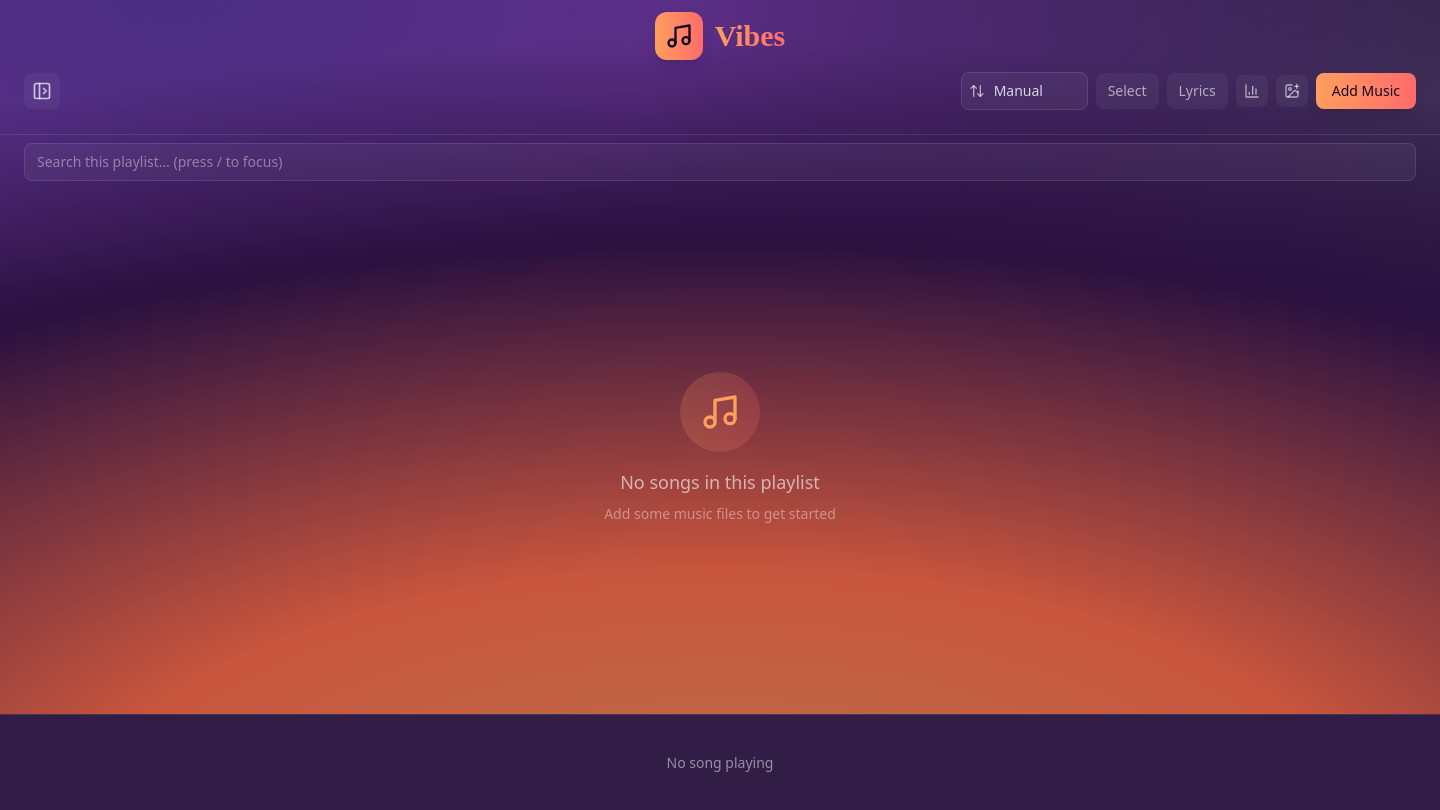
Test case: App › Escape closes the sidebar only below lg
This screenshot has width=1440, height=810.
// Mobile init: sidebar starts closed — open it first.
Click the button named "Open sidebar". click: (42, 91)
box: [24,73,60,109]
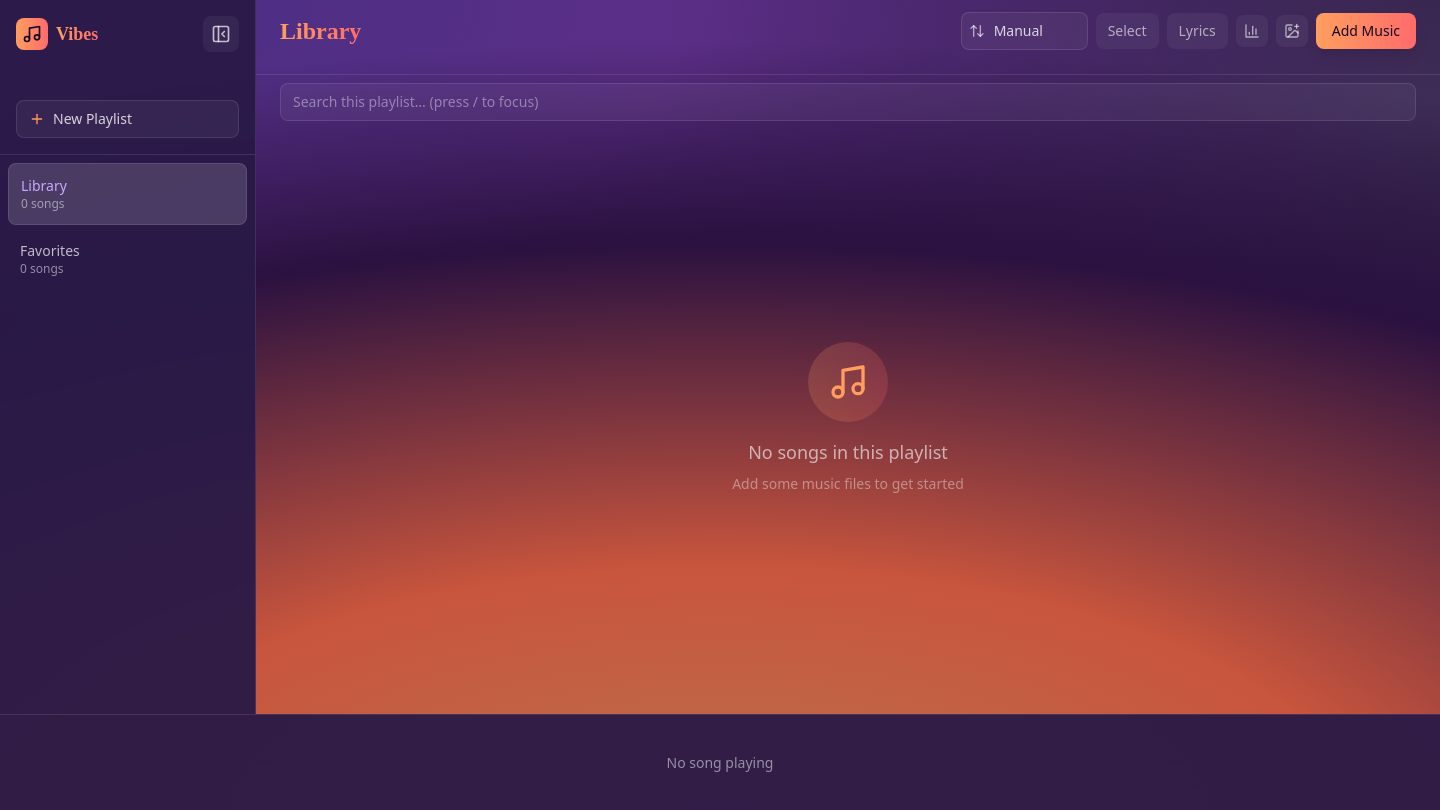
Expected: the button named "Close sidebar" is shown, [203,16,239,52]
Press Escape
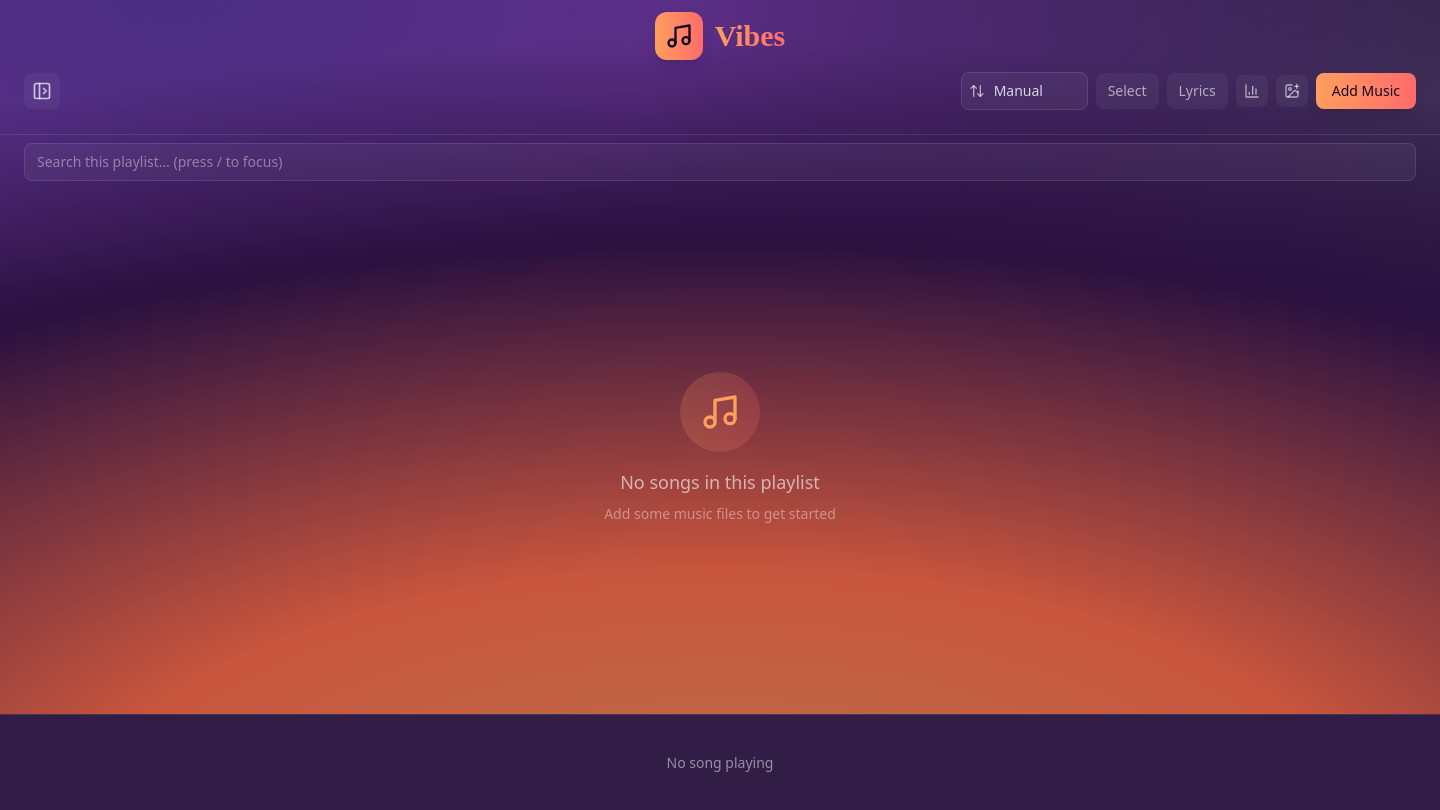
Expected: the button named "Open sidebar" is shown, [24,73,60,109]
